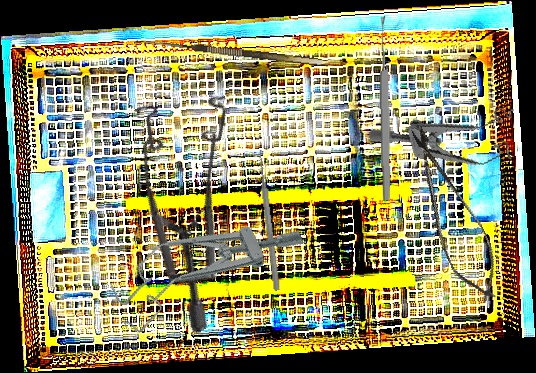Hook Surgical: (133, 36, 322, 76)
Micro Scissor: (393, 119, 512, 310)
Pusher: (255, 147, 282, 292)
Speculum: (76, 65, 324, 336), (100, 191, 311, 337), (366, 93, 527, 193)
Surgical Spoon: (377, 16, 393, 201)
